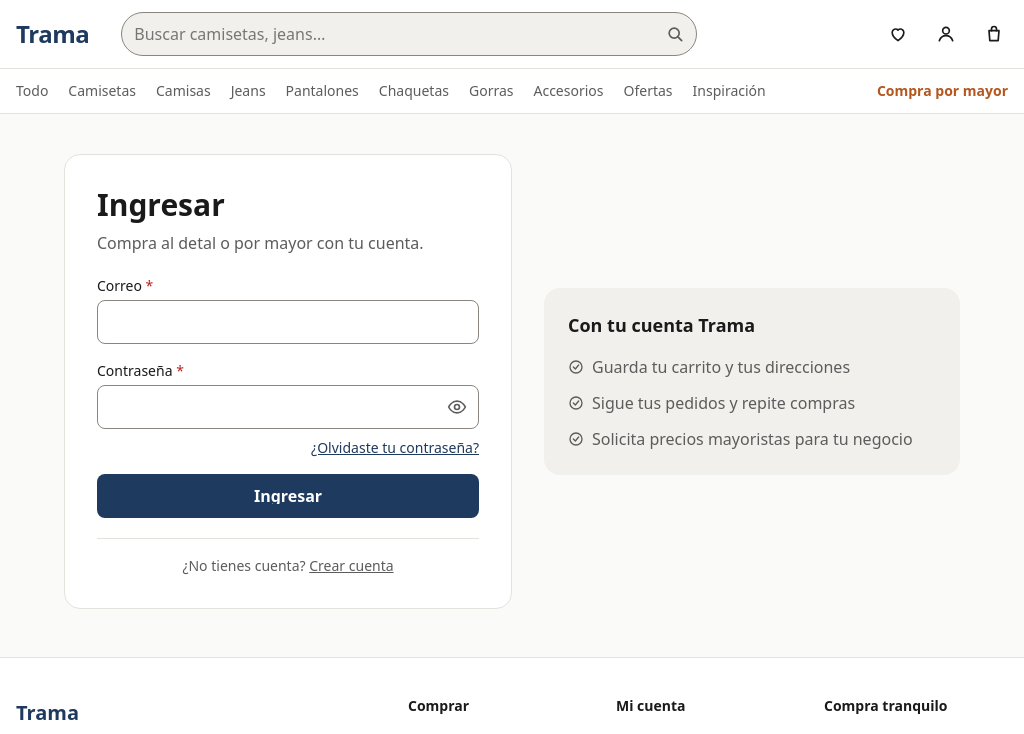
Autenticación › login: valida antes de enviar y enfoca el primer error
The width and height of the screenshot is (1024, 734).
Click the button "Ingresar" at point(288, 496), box [97,474,479,518]
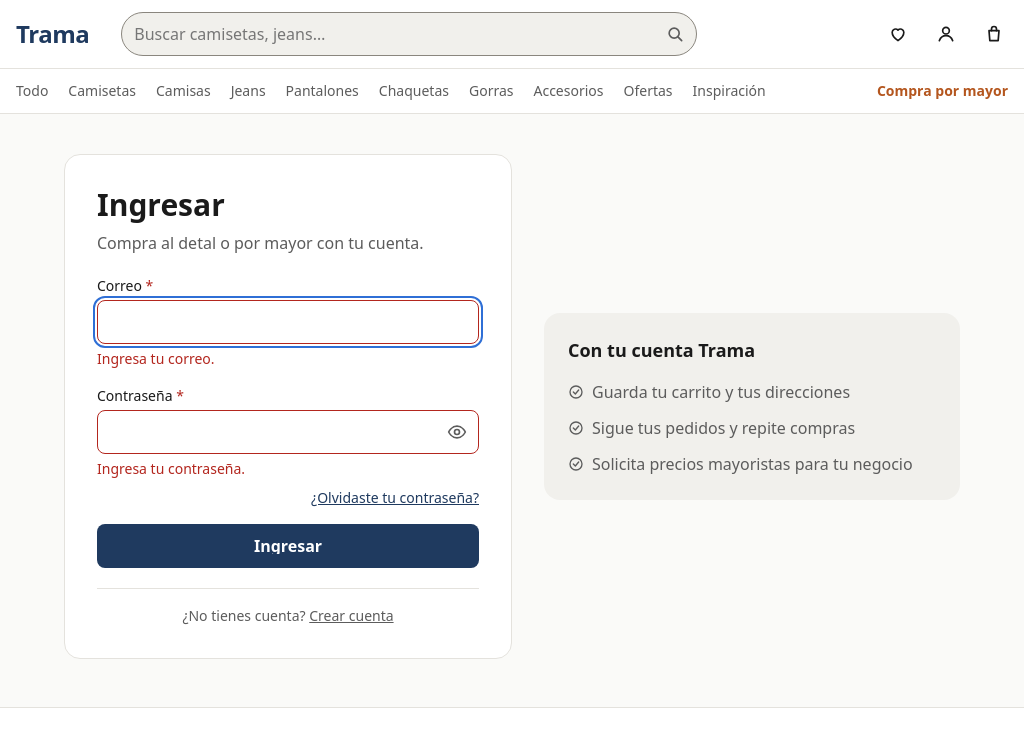
expect the text "Ingresa tu correo." is shown: met, box [97,349,214,368]
expect the text "Ingresa tu contraseña." is shown: met, box [97,459,245,478]
